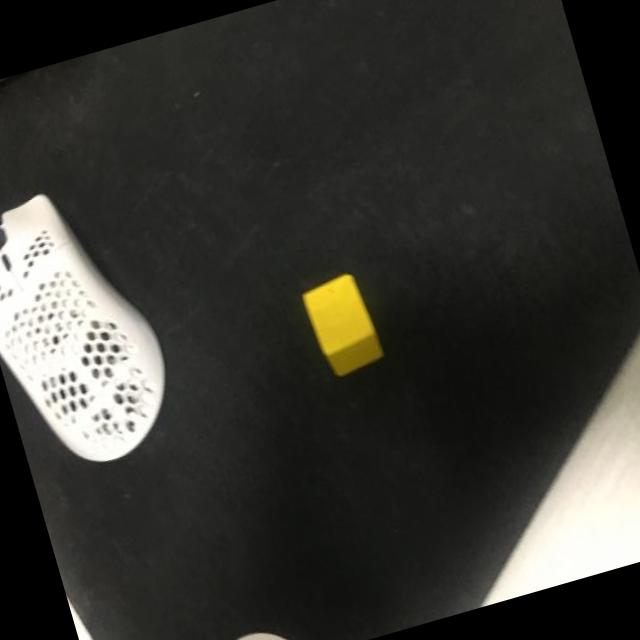yellow: (298, 269, 388, 381)
